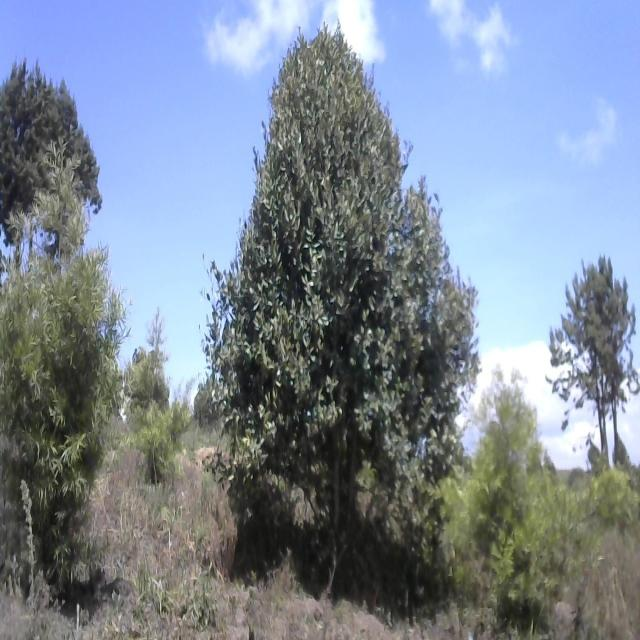Podocarpus falcatus: (1, 140, 131, 598), (455, 374, 577, 626), (137, 394, 191, 482)
Salix alba: (206, 23, 469, 556)
other: (546, 248, 640, 456), (1, 59, 89, 226)
